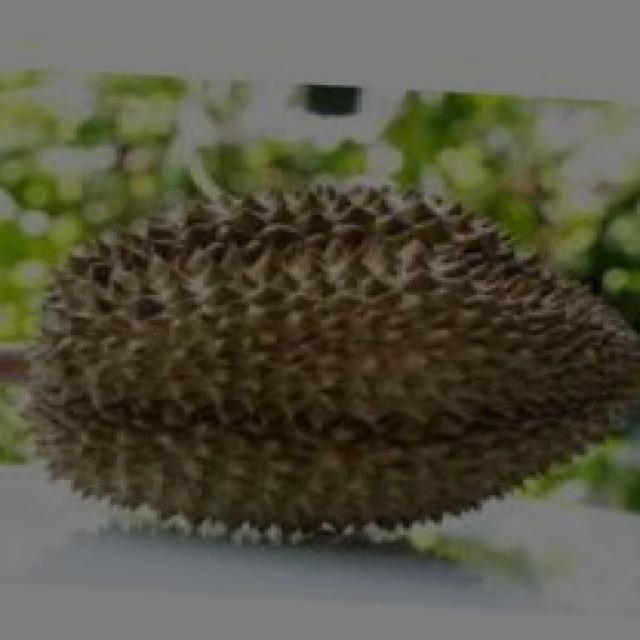fruit: (258, 150, 640, 578), (3, 183, 369, 595)
